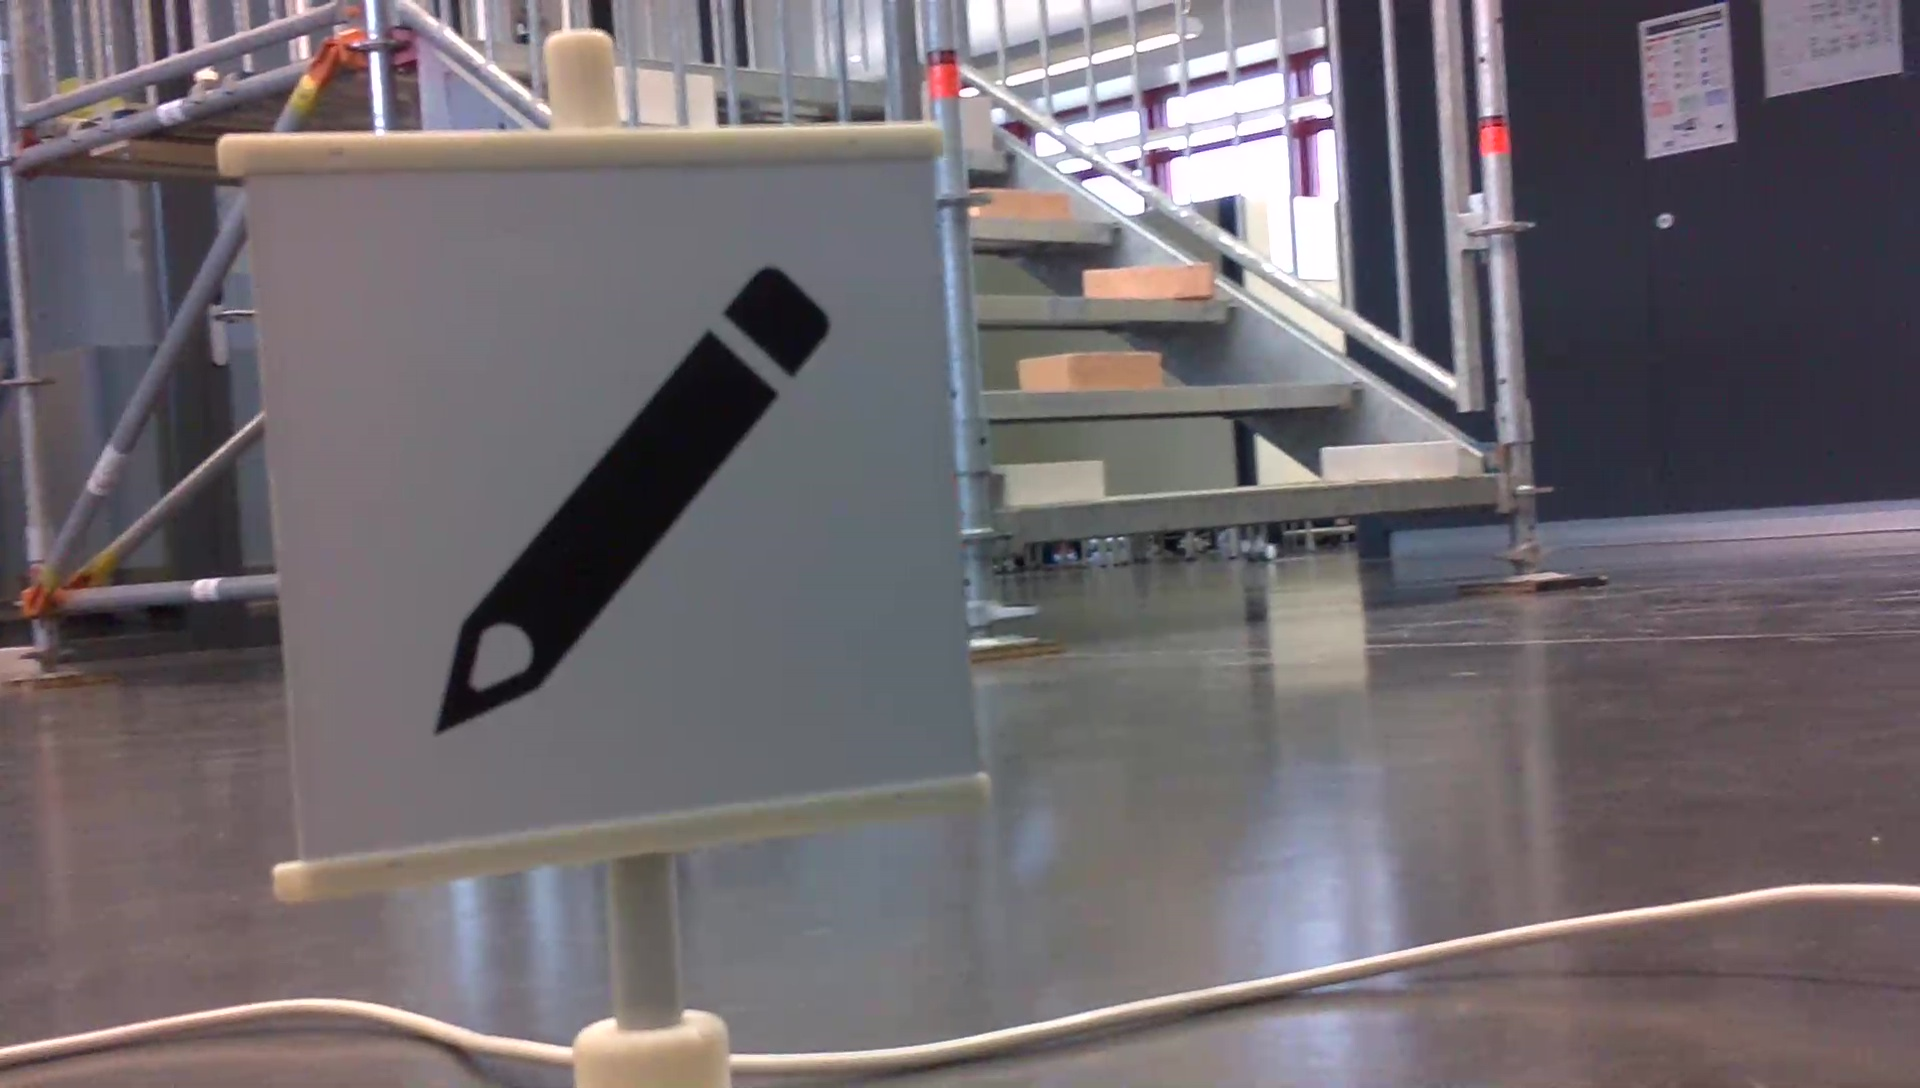brick: (1325, 440, 1458, 480), (1019, 353, 1159, 385), (1002, 460, 1102, 502), (1085, 265, 1209, 298), (975, 190, 1069, 218), (957, 98, 988, 148)
edge: (1007, 477, 1491, 541), (978, 378, 1361, 415)
pencil: (411, 252, 843, 752)
